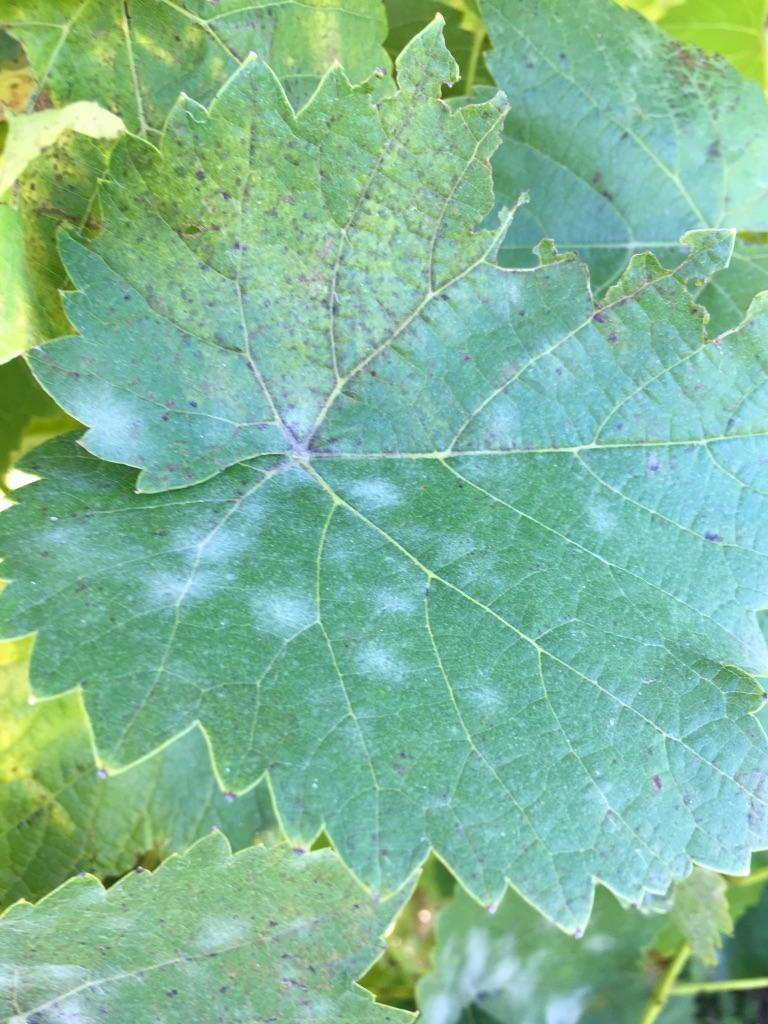Squash Powdery mildew leaf: (10, 21, 768, 958)
